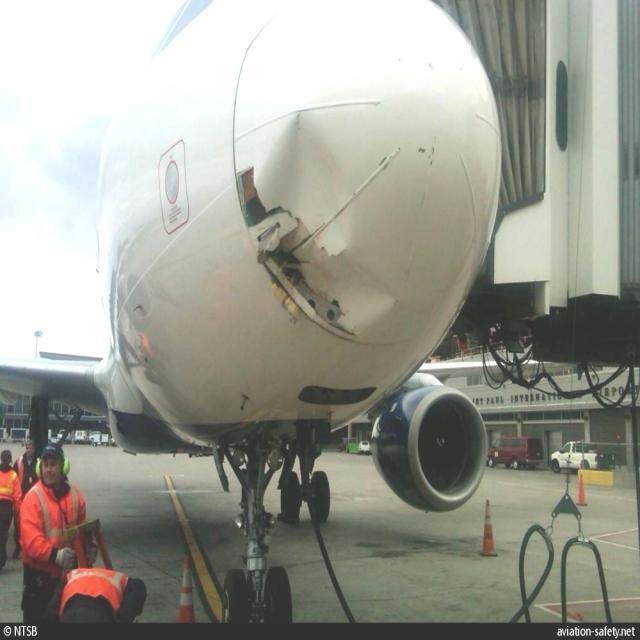dent: (262, 102, 356, 241), (327, 251, 404, 329)
